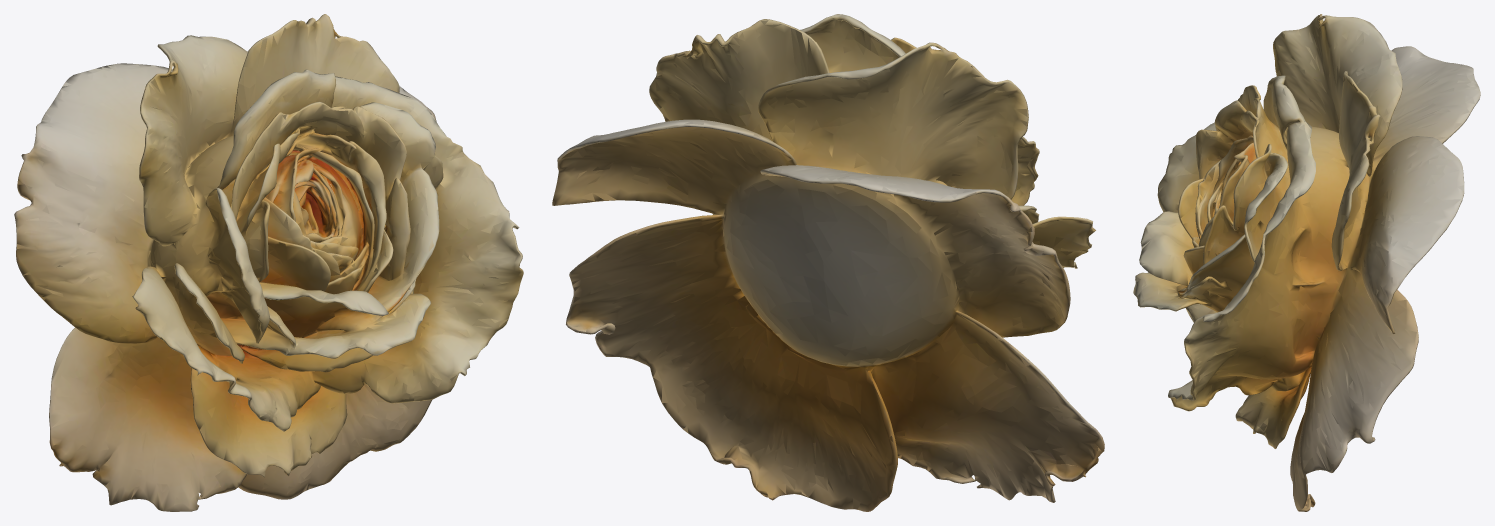
The model's file is yellow rose.fbx.
The picture shows the model from 3 angles, left to right: view 1: azimuth 30°, elevation 25°; view 2: azimuth 150°, elevation 25°; view 3: azimuth 270°, elevation 25°; orthographic projection. The views are drawn at different scales.
Visible parts, largest first — view 1: tripo_node_07cc5975; view 2: tripo_node_07cc5975; view 3: tripo_node_07cc5975.
Boxes of the visible parts, box(x1,y1,x2,y2) form: tripo_node_07cc5975: box(14, 14, 523, 511); tripo_node_07cc5975: box(552, 14, 1104, 511); tripo_node_07cc5975: box(1133, 14, 1480, 511).
Size of the model in its own units: 97.88 by 71.06 by 95.75.
Materials: 1 (1 with a texture image).
